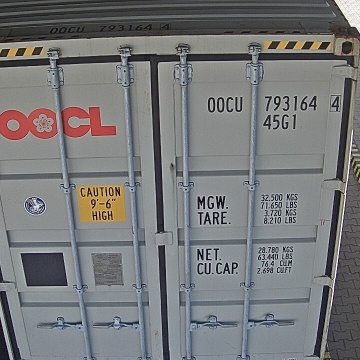serial_id: (208, 95, 341, 112)
